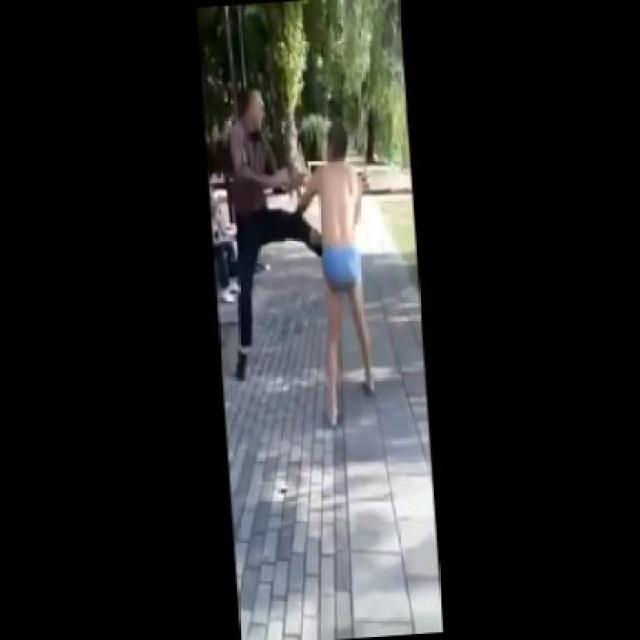fight: (220, 78, 383, 408)
